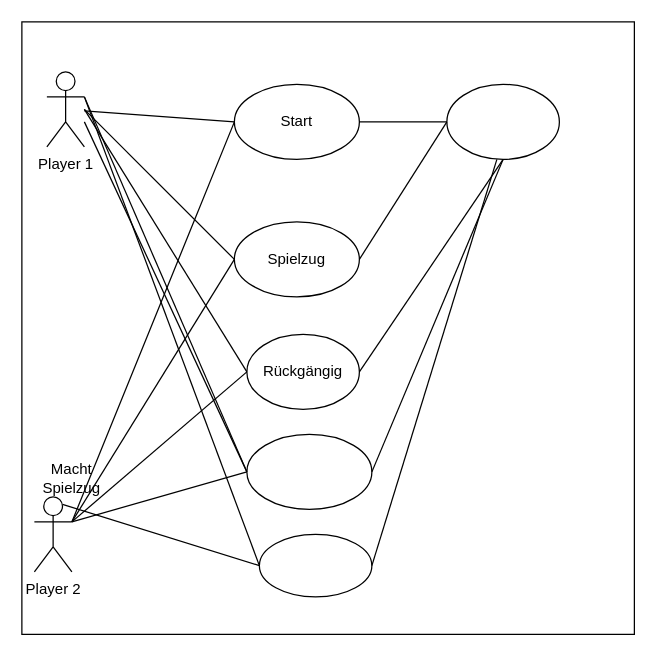
Some shapes in this 656 by 656 pixel diagram are drawn without their labels. Here are the shapes that lost their labels. From the top down, the centre of each, then its label:
[502,121]: Spielplatz
[309,471]: Neues Spiel
[315,565]: Spiel Beenden
